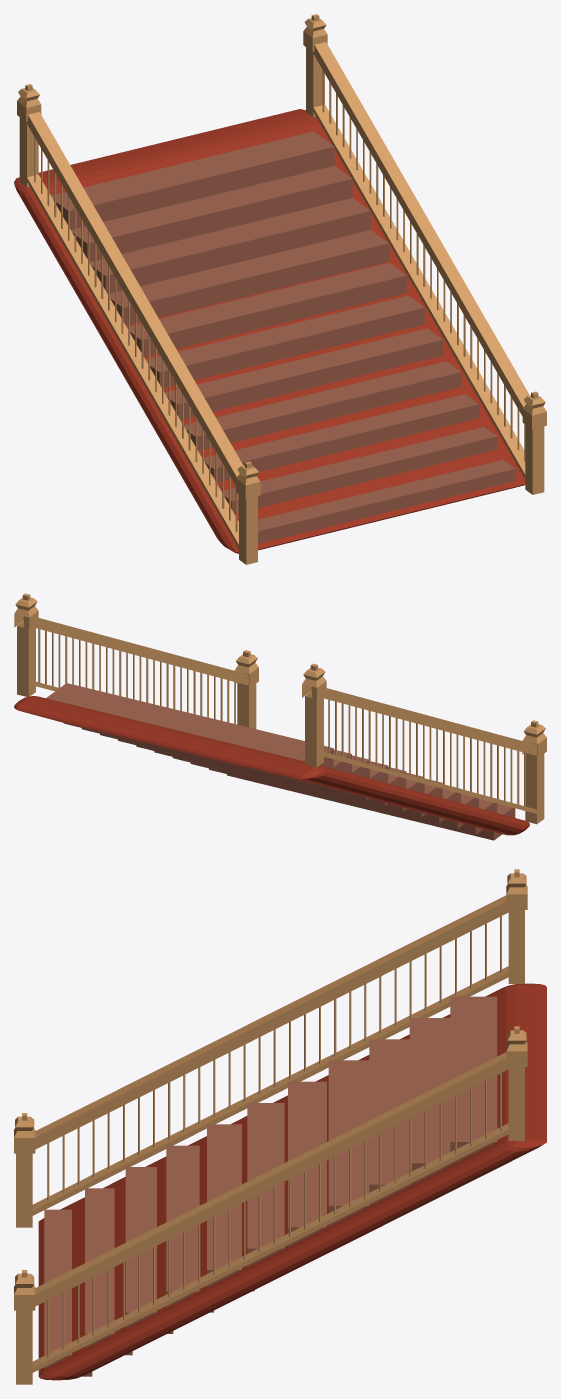
File: Stair.fbx
The picture shows the model from 3 angles, top to bottom: view 1: azimuth 30°, elevation 25°; view 2: azimuth 150°, elevation 25°; view 3: azimuth 270°, elevation 25°; orthographic projection. The views are drawn at different scales.
Visible parts, largest first — view 1: Stair; view 2: Stair; view 3: Stair.
Boxes of the visible parts, left/top/right/bottom form: Stair: left=14, top=14, right=546, bottom=564; Stair: left=14, top=593, right=546, bottom=840; Stair: left=14, top=869, right=546, bottom=1384.
Bounding box in the file's own units: 585 × 583 × 795.
